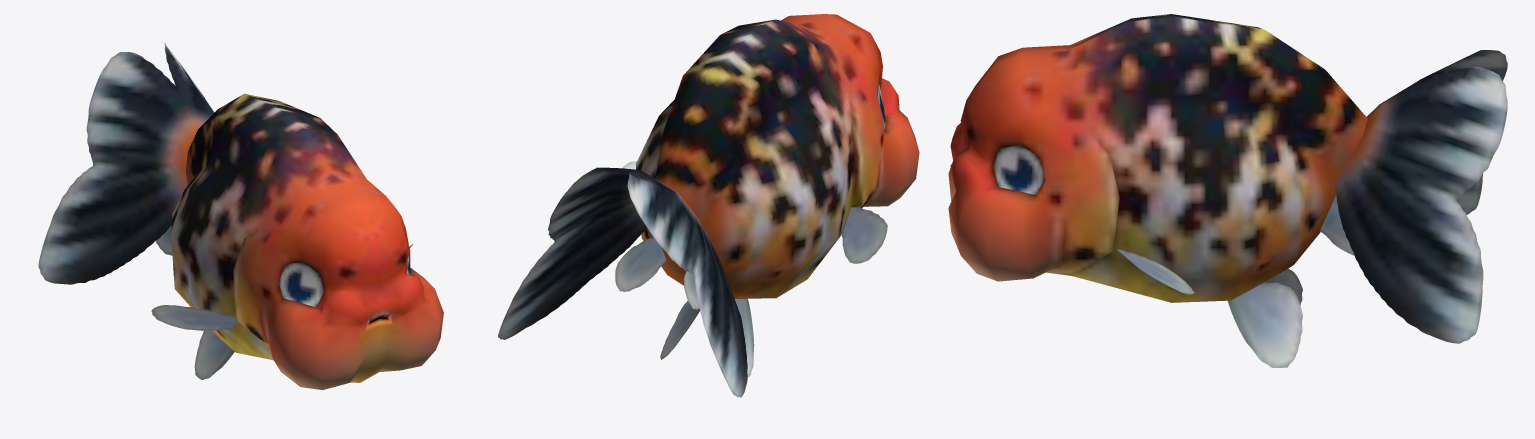
The model's file is ranchu-goldfish.glb.
The picture shows the model from 3 angles, left to right: view 1: azimuth 30°, elevation 25°; view 2: azimuth 150°, elevation 25°; view 3: azimuth 270°, elevation 25°; orthographic projection. The views are drawn at different scales.
Bounding box in the file's own units: 3.04 × 3.11 × 4.29.
Materials: 1 (1 with a texture image).
